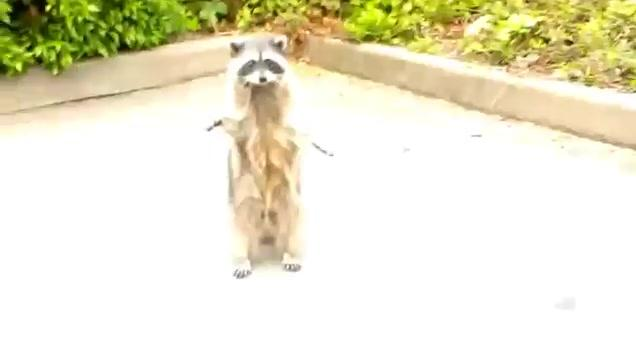raccoon: (206, 35, 336, 282)
